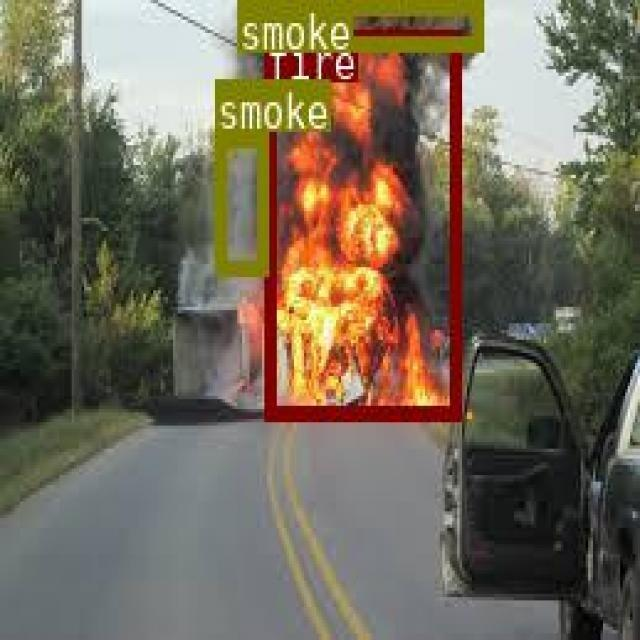fire: (264, 28, 458, 418)
smoke: (235, 0, 482, 49), (214, 129, 266, 272)
